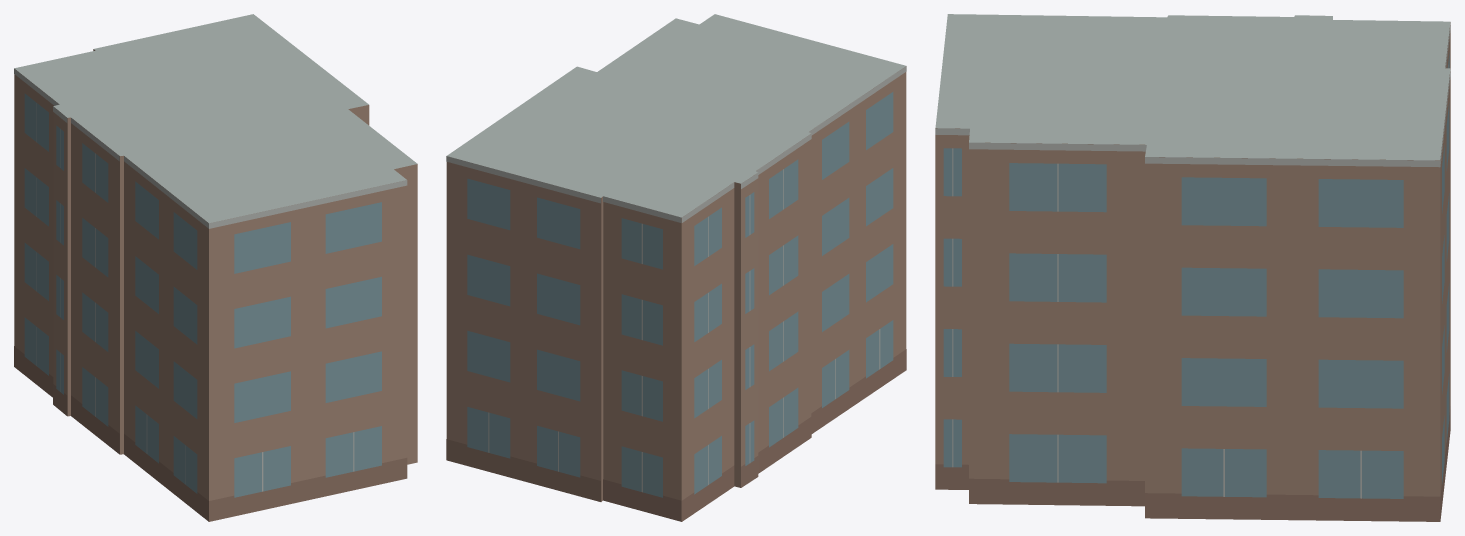
File: survey-upis-32663660.glb
3 renders of one model, left to right at view 1: azimuth 30°, elevation 25°; view 2: azimuth 150°, elevation 25°; view 3: azimuth 270°, elevation 25°, orthographic. The views are drawn at different scales.
Parts seen in each view (by area): view 1: survey-upis-32663660.tmp; view 2: survey-upis-32663660.tmp; view 3: survey-upis-32663660.tmp.
Boxes of the visible parts, x1,y1,x2,y2 form: survey-upis-32663660.tmp: (14,14,417,521); survey-upis-32663660.tmp: (446,14,906,521); survey-upis-32663660.tmp: (935,14,1450,521).
Size of the model in its own units: 11.39 by 13.1 by 16.93.
